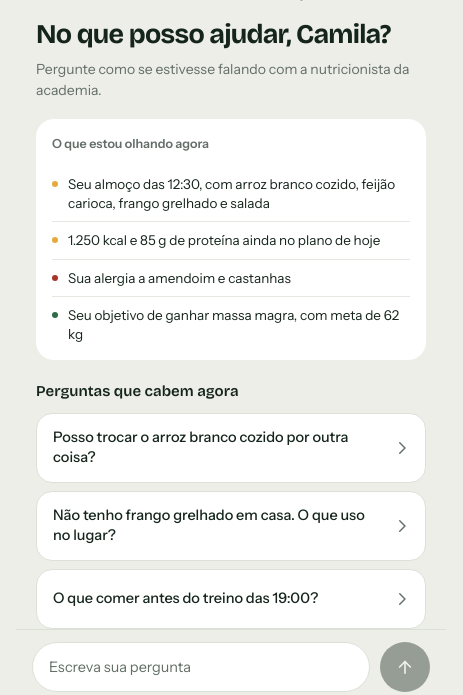
Test: Chat do Nutri (S14) › pergunta, mostra a resposta com cartão e chips; tocar num chip envia (RF20, CA13)
(page scrolled)
Type "Posso trocar o arroz por batata?" into the field named "Escreva sua pergunta para o Nutri". click: (201, 667)
box: [32,642,370,692]
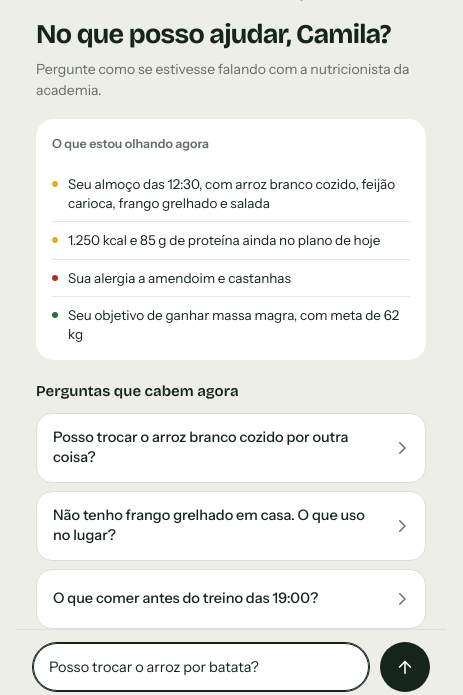
Click the button named "Enviar pergunta". click: (405, 667)
box: [380,642,430,692]
(page scrolled)
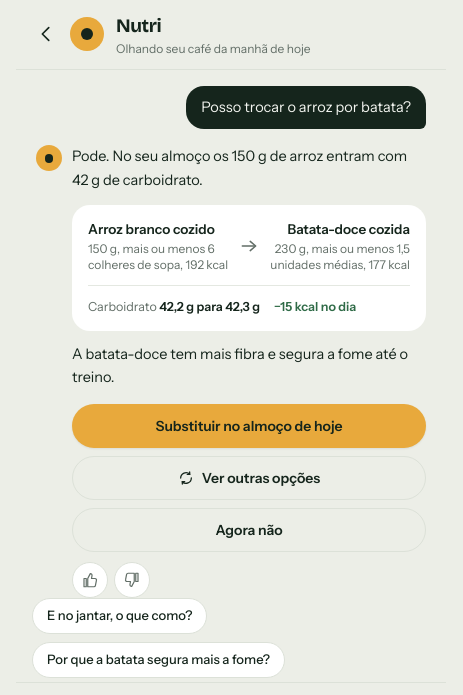
Expected: the element named "De arroz branco cozido para batata-doce cozida" is shown, [72,205,426,331]
Expected: the text "Posso trocar o arroz por batata?" is shown, [186,86,426,129]
Click the button "E no jantar, o que como?". click: (120, 616)
box: [32,598,208,634]
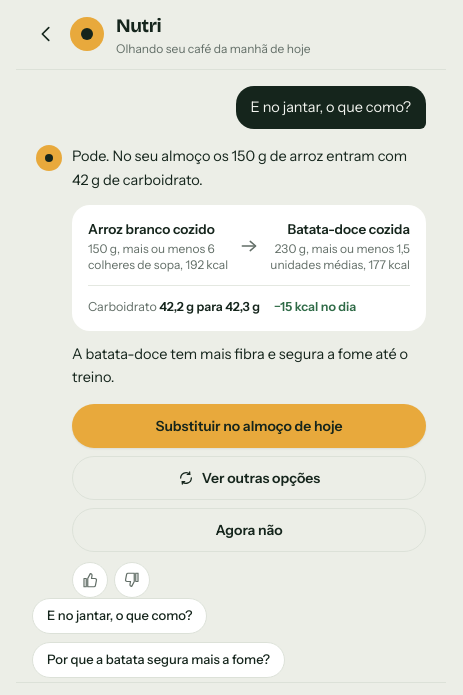
Expected: the text "E no jantar, o que como?" is shown, [236,86,426,129]
